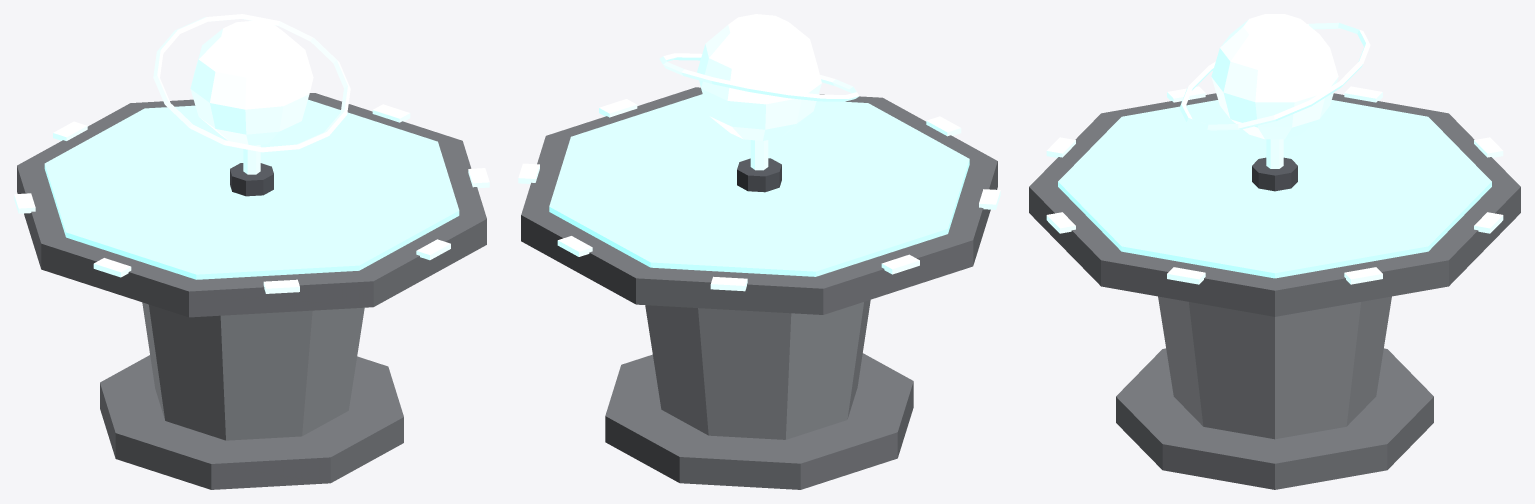
Rendered from SM_Holo_Table.fbx.
3 renders of one model, left to right at view 1: azimuth 30°, elevation 25°; view 2: azimuth 150°, elevation 25°; view 3: azimuth 270°, elevation 25°, orthographic.
Parts seen in each view (by area): view 1: SM_Holo_Table; view 2: SM_Holo_Table; view 3: SM_Holo_Table.
Part boxes in pixels (x1,y1,x2,y2): SM_Holo_Table: [14, 14, 489, 489]; SM_Holo_Table: [518, 14, 1000, 489]; SM_Holo_Table: [1029, 14, 1520, 489].
Bounding box in the file's own units: 1.7 × 1.54 × 1.7.
